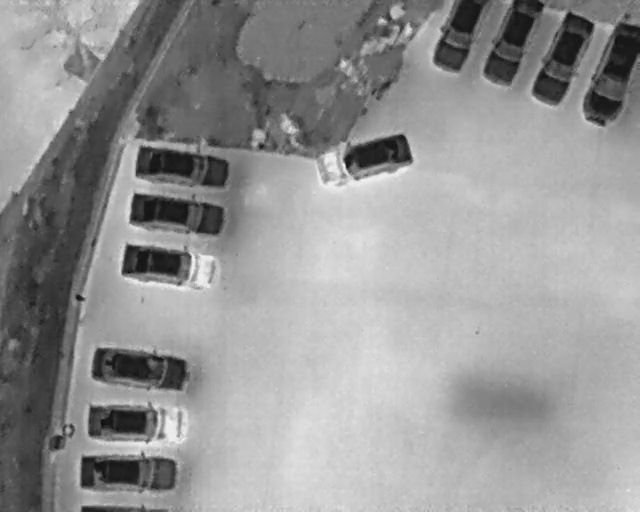Car: (522, 3, 603, 113), (310, 125, 422, 194), (580, 21, 639, 130), (477, 0, 545, 89), (117, 239, 221, 295), (87, 340, 191, 396), (124, 189, 227, 240), (132, 142, 232, 192), (85, 402, 187, 445), (428, 0, 486, 75), (77, 452, 178, 493)
